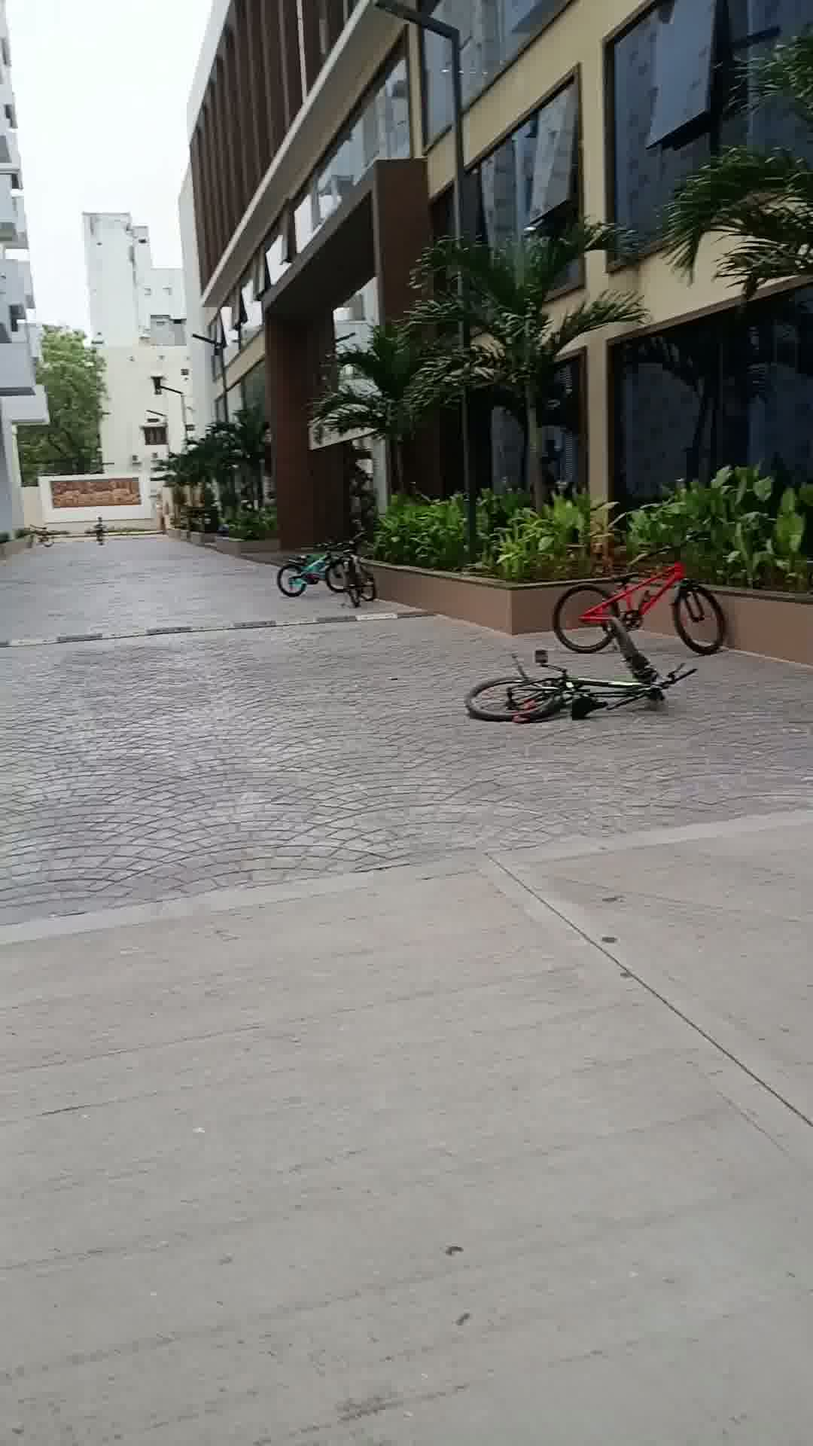bicycle: (535, 529, 765, 649), (447, 643, 703, 729), (267, 547, 395, 615)
tree: (398, 211, 660, 581), (319, 305, 441, 544), (208, 387, 293, 547)
